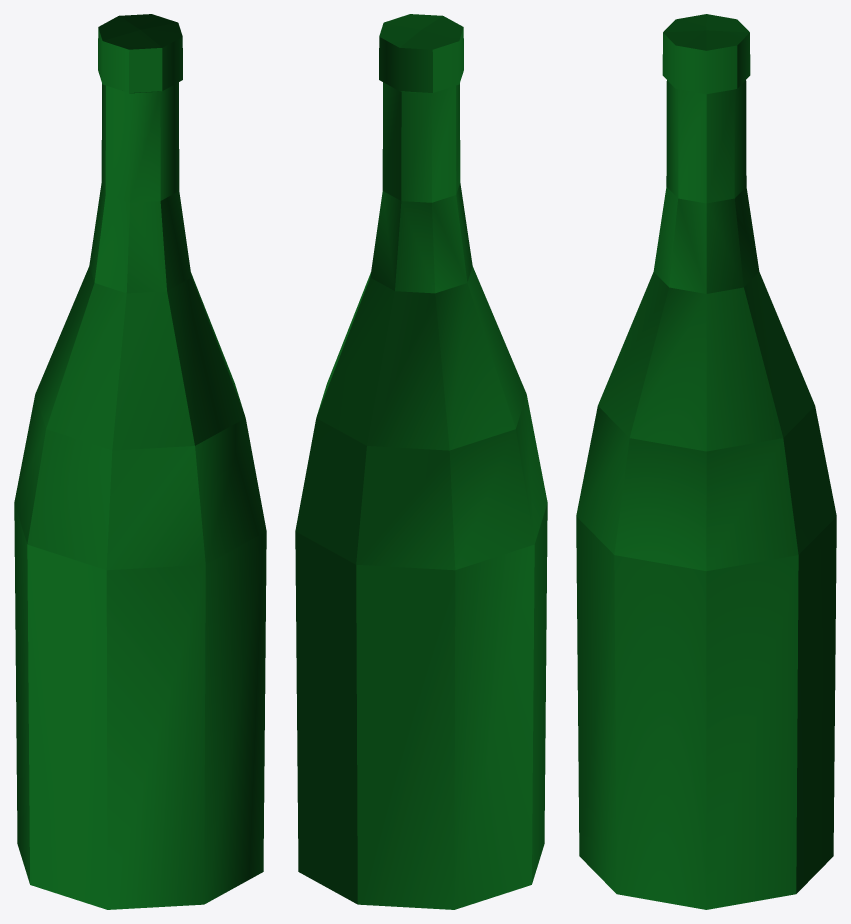
Rendered from Champagne Bottle.fbx.
The picture shows the model from 3 angles, left to right: view 1: azimuth 30°, elevation 25°; view 2: azimuth 150°, elevation 25°; view 3: azimuth 270°, elevation 25°; orthographic projection.
Visible parts, largest first — view 1: Node 0; view 2: Node 0; view 3: Node 0.
Boxes of the visible parts, x1,y1,x2,y2 form: Node 0: [14, 14, 266, 909]; Node 0: [295, 14, 547, 909]; Node 0: [576, 14, 836, 909].
Size of the model in its own units: 0.2193 by 0.7668 by 0.2193.
